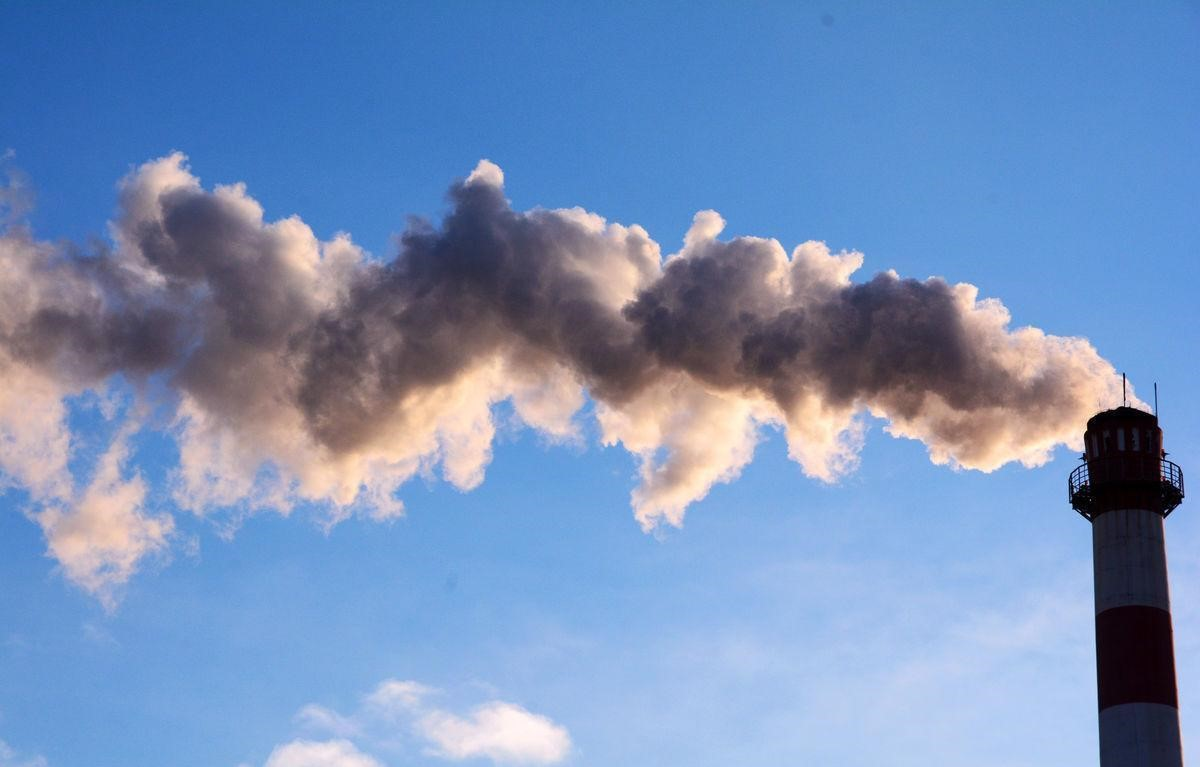工厂排烟: (0, 147, 1153, 622)
